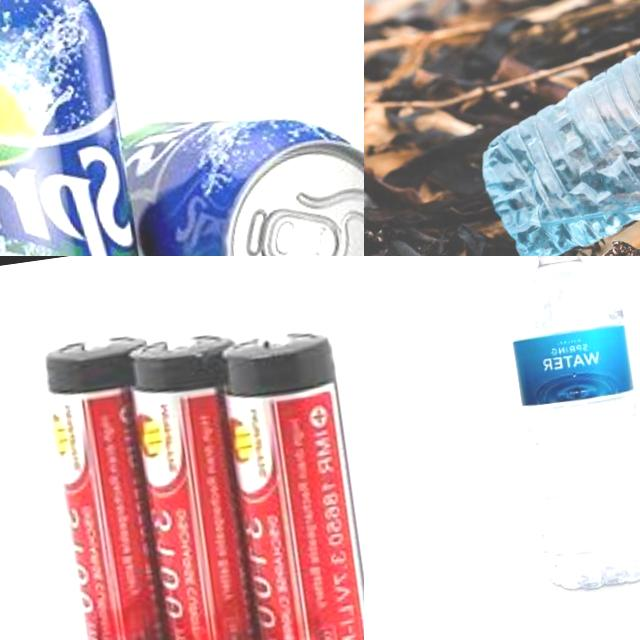aba de lata: (254, 199, 346, 256)
bateria: (126, 325, 285, 640), (217, 320, 364, 640), (46, 327, 195, 640)
garrafa plástica: (499, 256, 640, 597), (464, 2, 640, 256)
lata: (112, 87, 364, 256), (0, 0, 157, 256)
